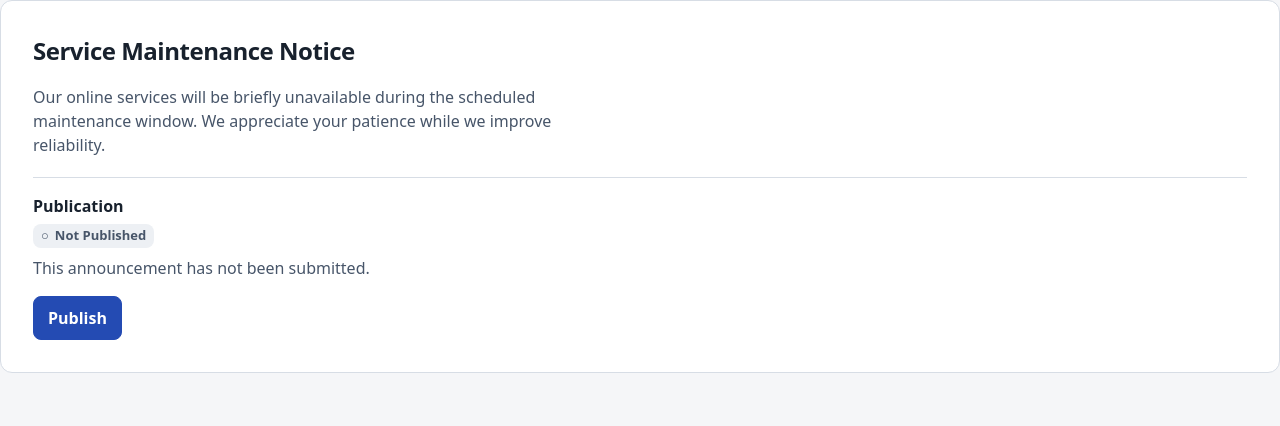
Test: publishes a registered attempt, keeps its confirmation, and stops polling
Click the button "Publish". click: (77, 318)
box: [33,296,122,340]
Wait 14520 ms
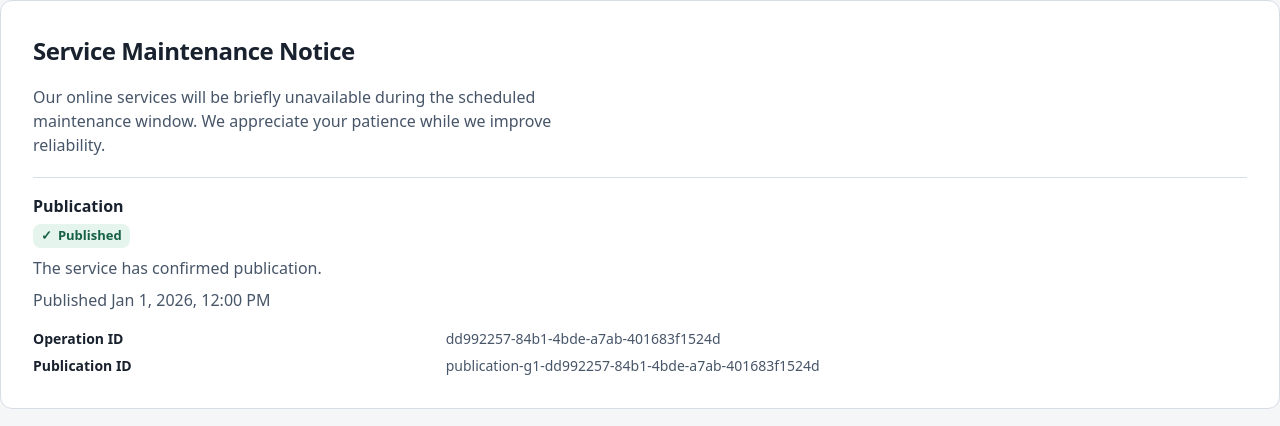
Expected: the text "Processing" is shown, [33,224,130,248]
Expected: the message shows "The service has confirmed publication.", [33,256,322,278]
